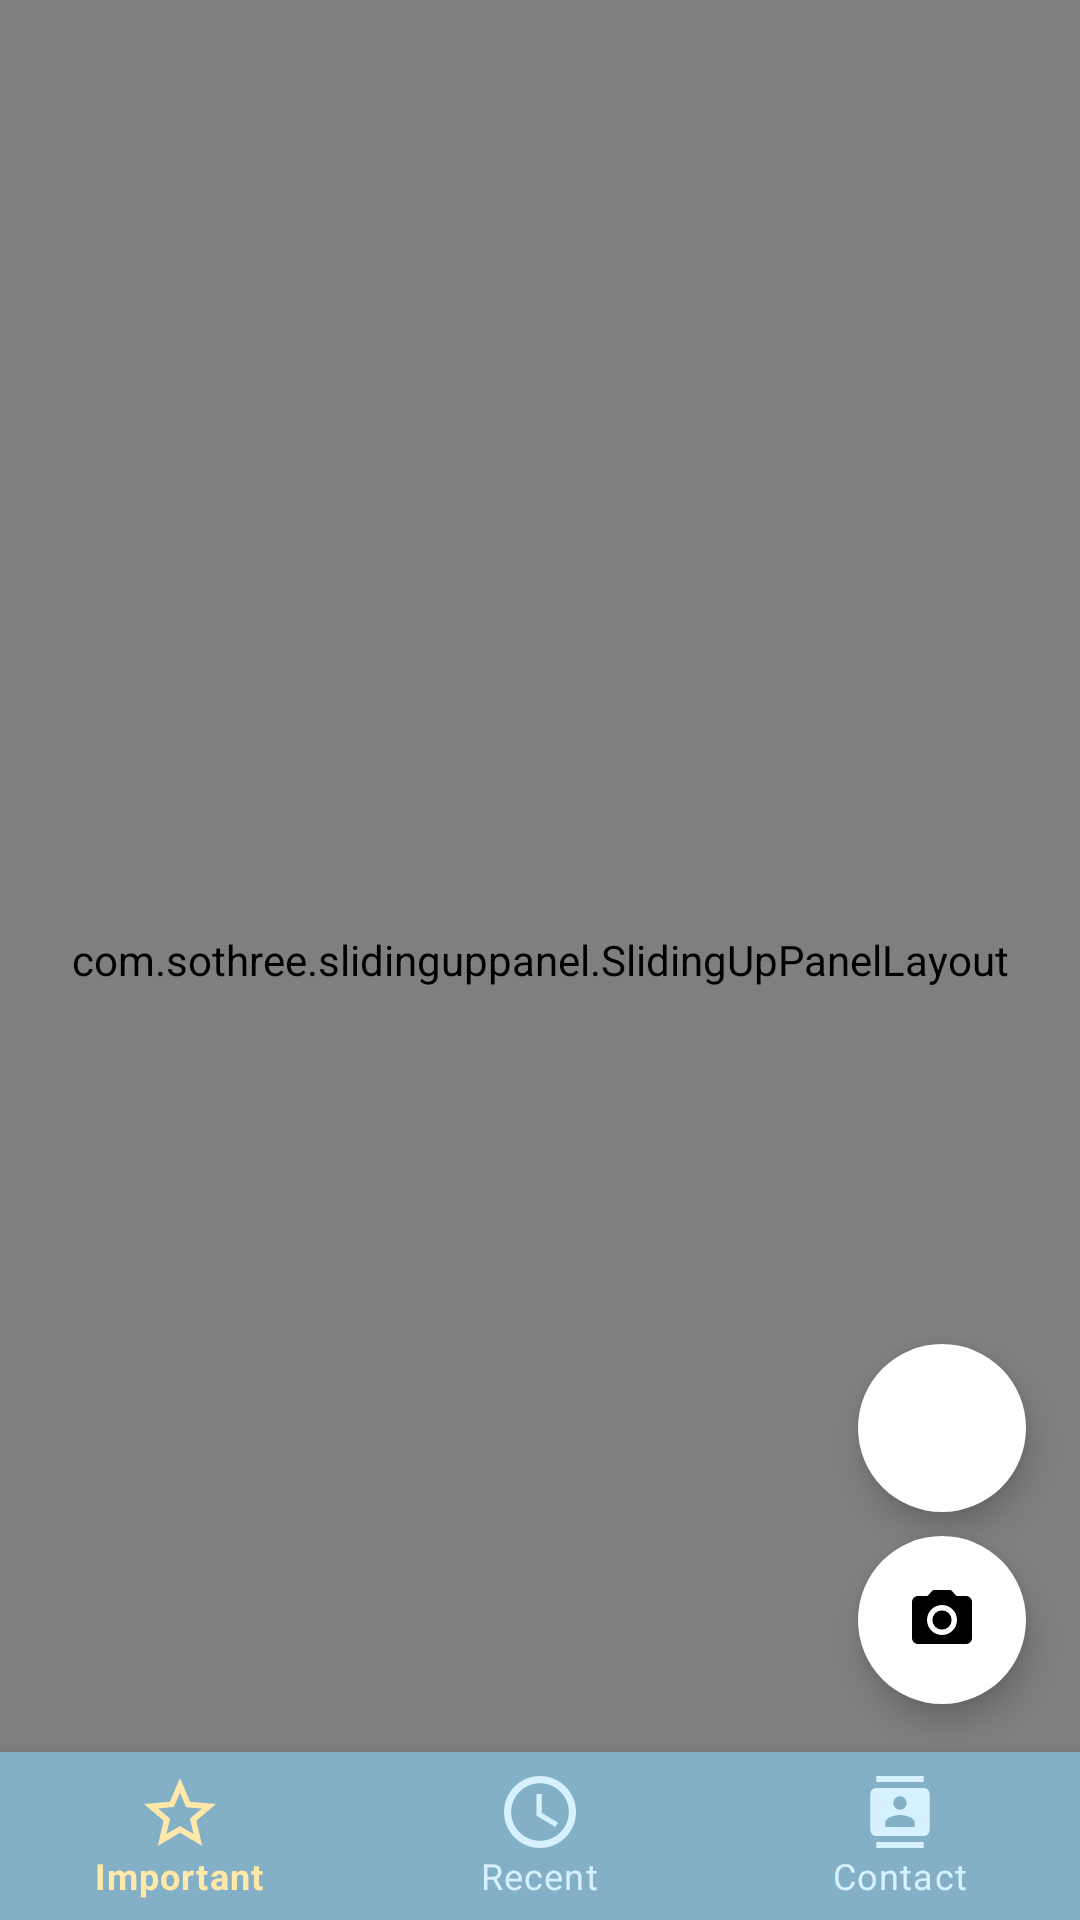

Where to tap for icons on this 1080×1920 app screen, as (x=x, y=y):
camera: (x=942, y=1620)
